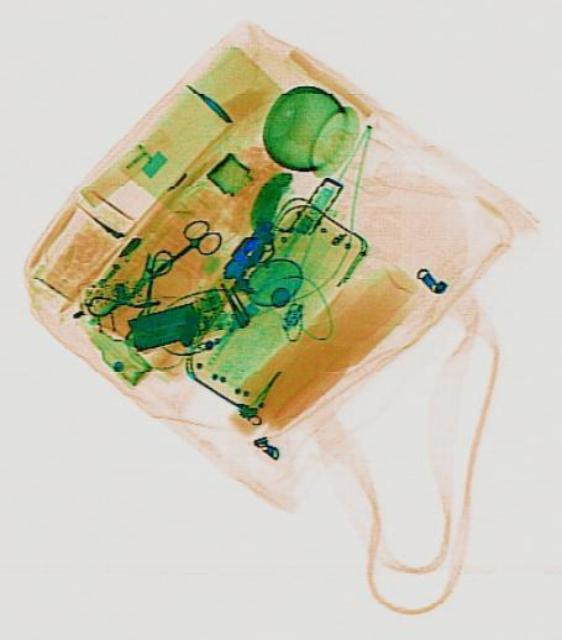Scissors: (143, 206, 224, 284)
